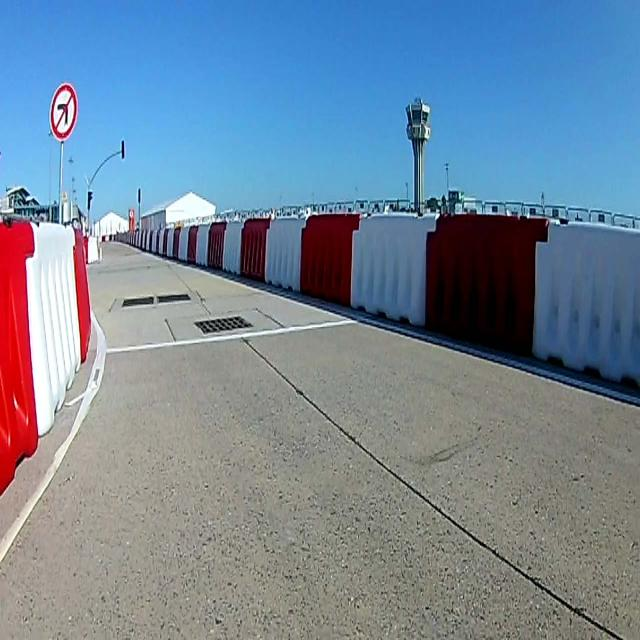soladonulmez: (52, 85, 78, 138)
